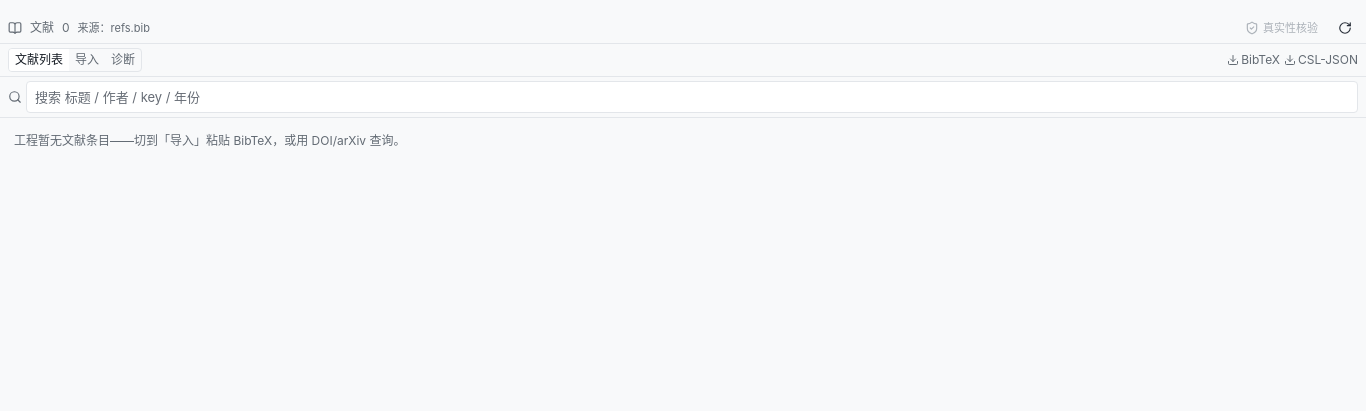
Test case: LibraryPanel Zotero v2（B2 私有库授权与一键刷新） › 授权弹层：masked 显示、保存提交 key、留空提示、清除需确认
The image size is (1366, 411).
Later steps or results of the test are not shown.
Click the button "导入" at x=87, y=60, box [69,49,105,71]
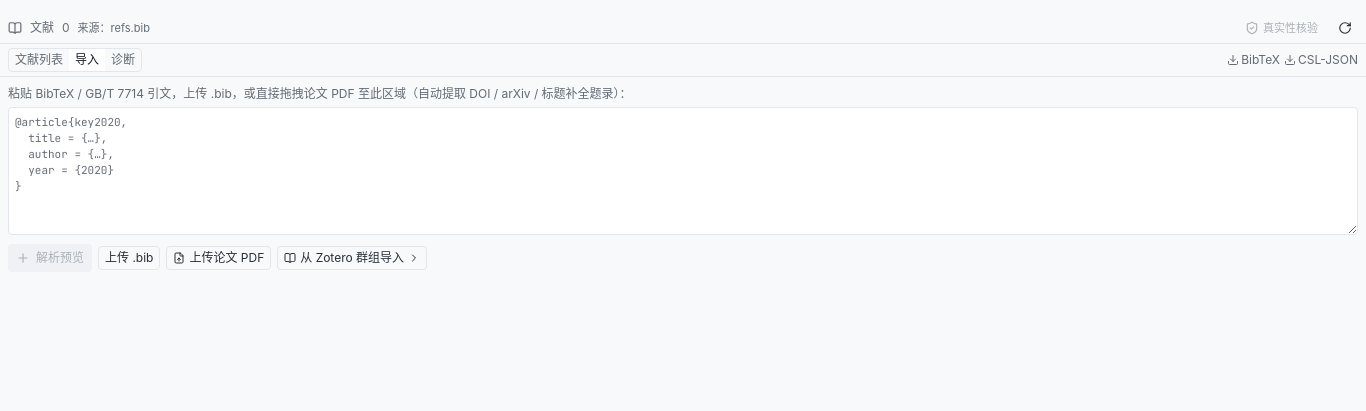
Now the button with test id "library-zotero-toggle" is shown
Click the button with test id "library-zotero-toggle" at x=352, y=258, box [277,246,427,270]
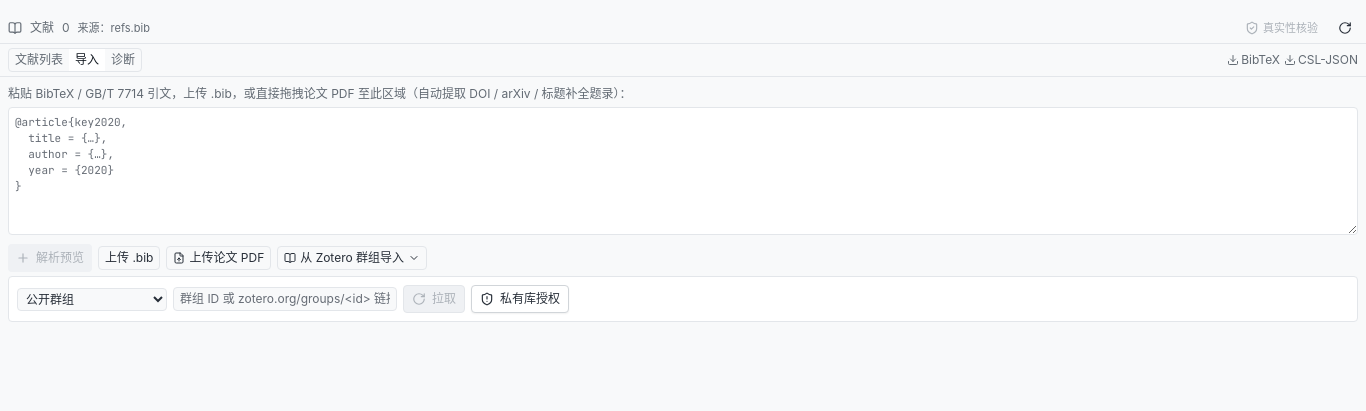
Click the button "私有库授权" at x=520, y=299, box [471,285,569,313]
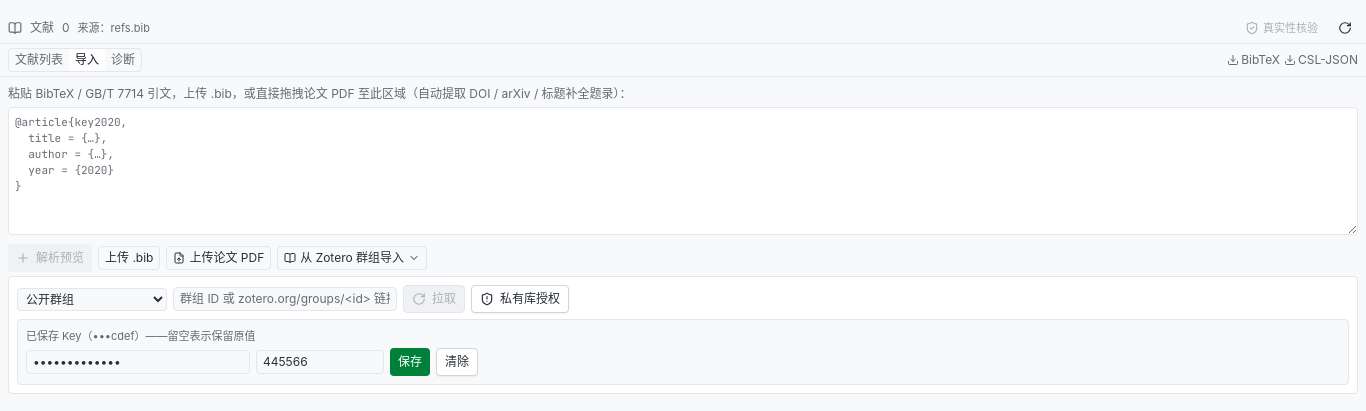
Now the element with test id "library-zotero-cred" shows "•••cdef", box [92,329,134,343]
